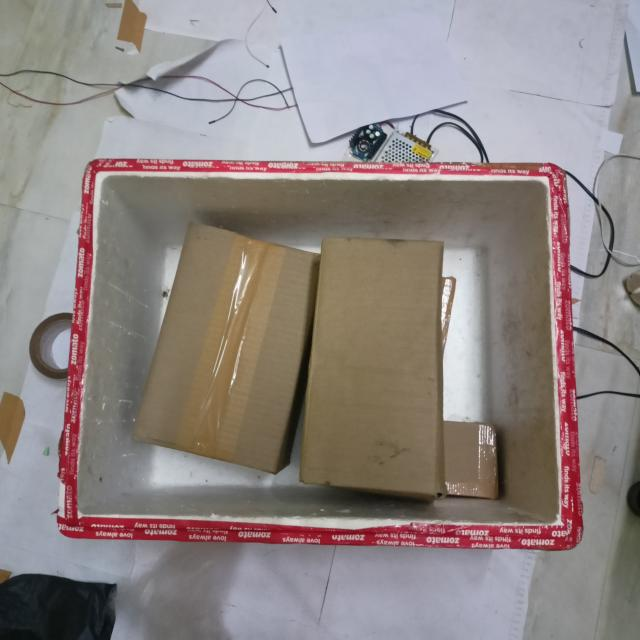box: (119, 218, 317, 477), (294, 239, 448, 500)
